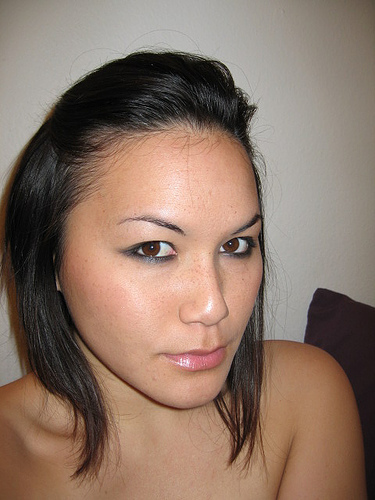without_mask: (21, 85, 298, 424)
